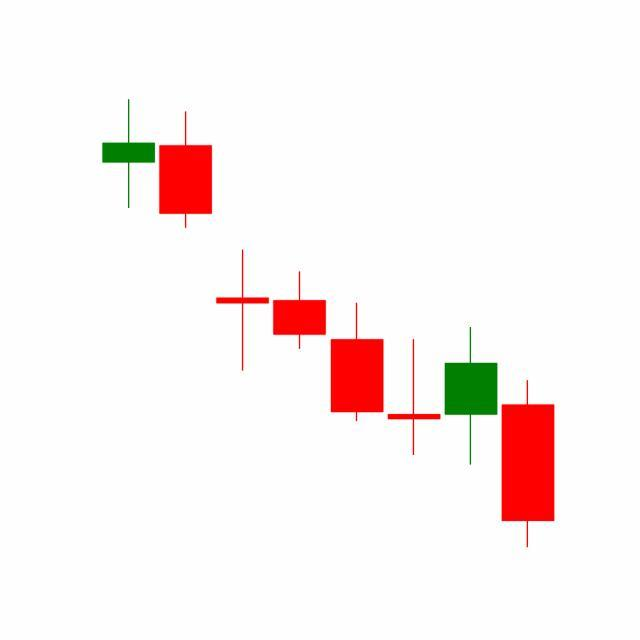Morning Star: (328, 301, 500, 468)
